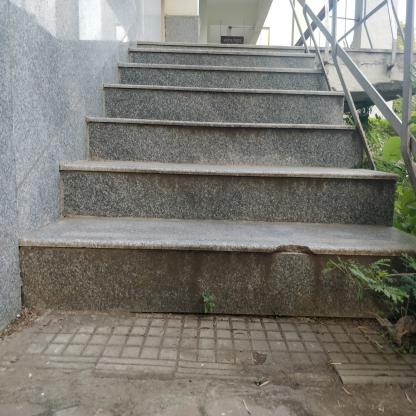stairs: (115, 56, 329, 325)
